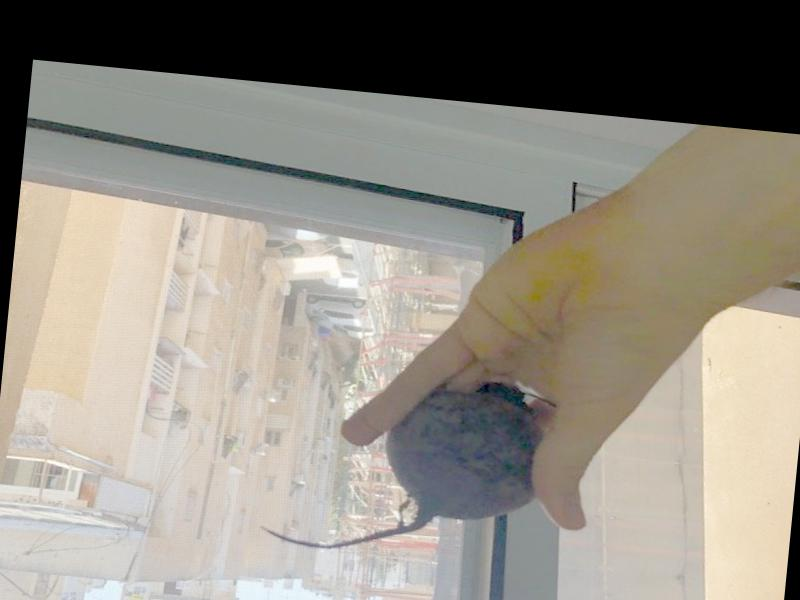Beet: (257, 361, 544, 570)
